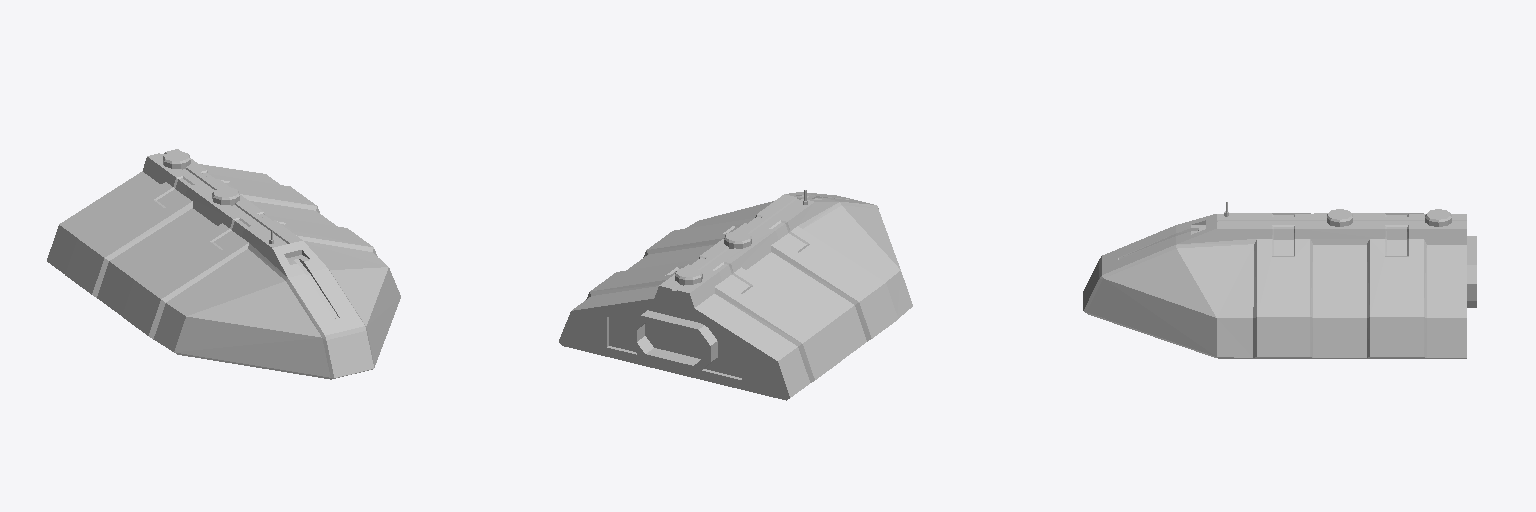
The model's file is oolite_transporter.obj.
3 views of the same model, side by side, from view 1: azimuth 30°, elevation 25°; view 2: azimuth 150°, elevation 25°; view 3: azimuth 270°, elevation 25° (orthographic).
Parts seen in each view (by area): view 1: trans.obj; view 2: trans.obj; view 3: trans.obj.
Boxes of the visible parts, x1,y1,x2,y2 form: trans.obj: [47, 149, 400, 379]; trans.obj: [559, 190, 912, 400]; trans.obj: [1083, 202, 1476, 358].
Size of the model in its own units: 30.23 by 11.84 by 43.29.